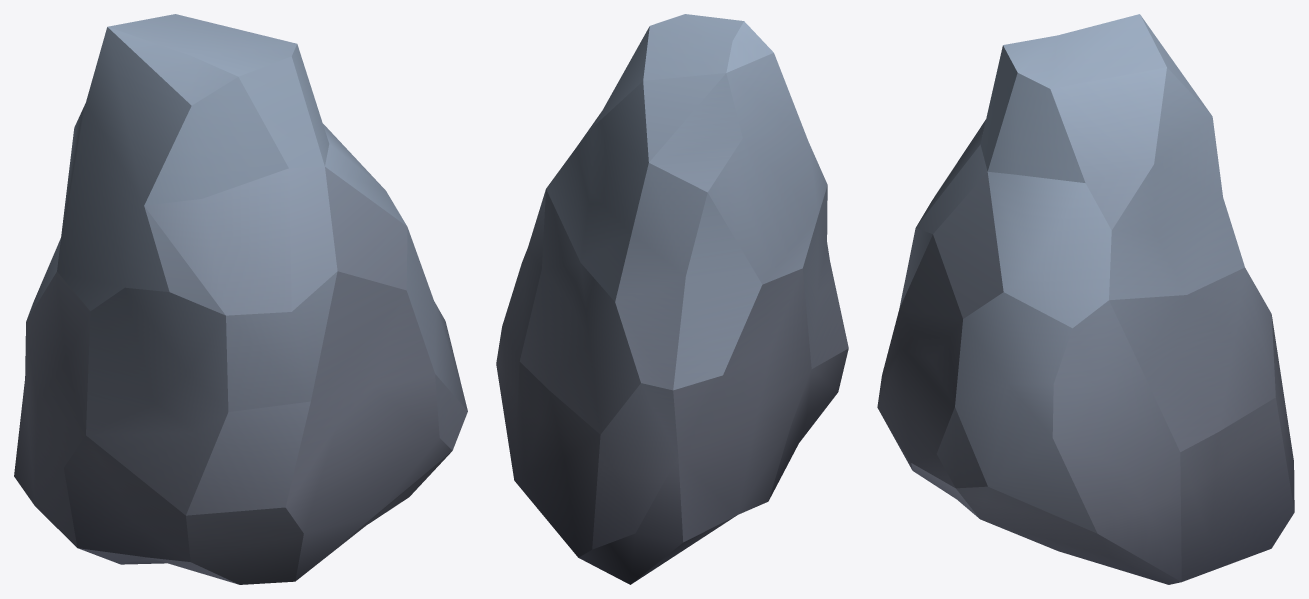
The model's file is SM_Rock_02.fbx.
3 renders of one model, left to right at view 1: azimuth 30°, elevation 25°; view 2: azimuth 150°, elevation 25°; view 3: azimuth 270°, elevation 25°, orthographic. The views are drawn at different scales.
Parts seen in each view (by area): view 1: Rock.001; view 2: Rock.001; view 3: Rock.001.
Part boxes in pixels (x1,y1,x2,y2): Rock.001: (14, 14, 467, 584); Rock.001: (496, 14, 848, 584); Rock.001: (877, 14, 1294, 584).
Bounding box in the file's own units: 378 × 567 × 425.
